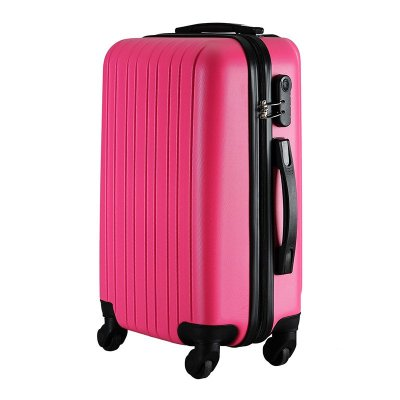luggage: (97, 23, 306, 378)
